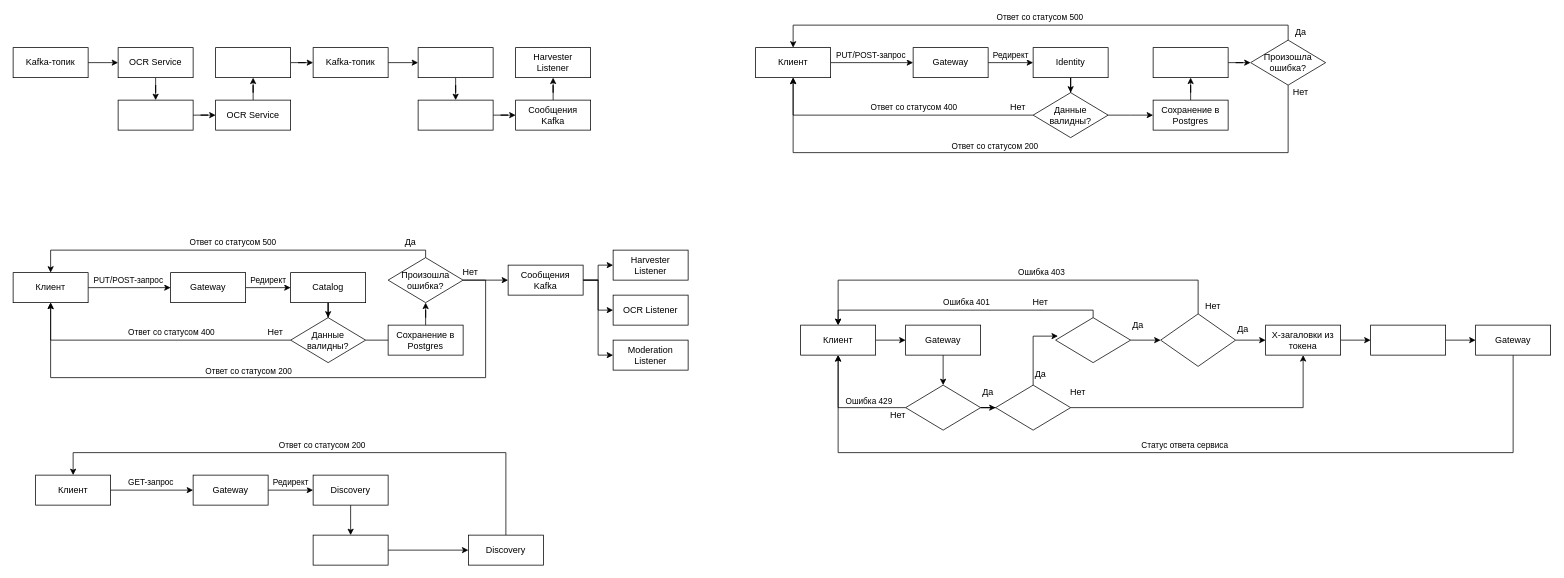
The diagram is 1564 pixels wide and 578 high, and some of its shapes have lost their labels. Each missing label, with the centre of its shape:
"Catalog Listener" goes at [455,62].
"Elasticsearch" goes at [350,549].
"PostgreSQL: materials" goes at [455,114].
"PostgreSQL: ocr_jobs" goes at [155,114].
"PostgreSQL: ocr_results" goes at [253,62].
"Rate limiting" goes at [943,407].
"Service" goes at [1408,339].
"Валидация токена?" goes at [1093,340].
"Запрс требует авторизации" goes at [1033,407].
"Проверка прав доступа" goes at [1198,339].
"Сохранение в Keycloak" goes at [1190,62].
